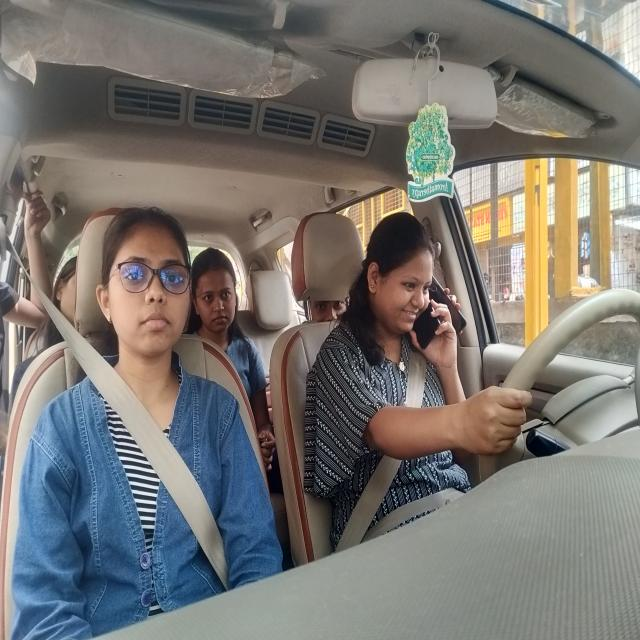mobile: (413, 298, 452, 358)
person: (93, 204, 196, 352), (380, 231, 442, 335), (192, 250, 246, 336), (54, 257, 78, 327)
